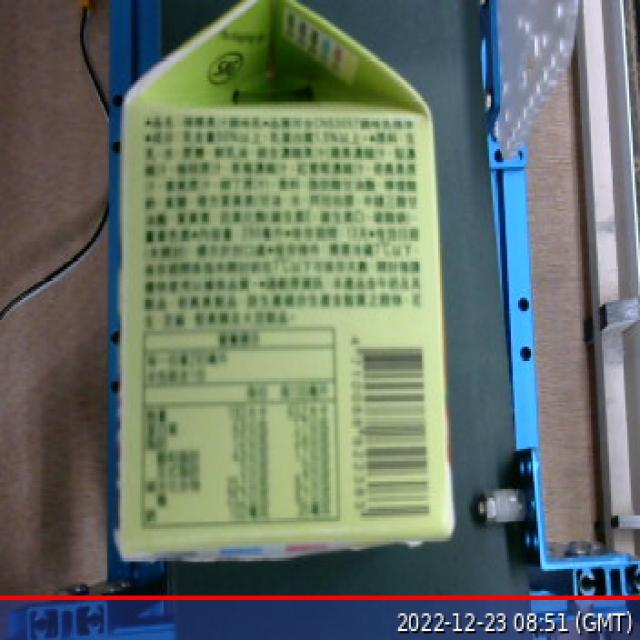non_white_jug: (99, 0, 476, 580)
